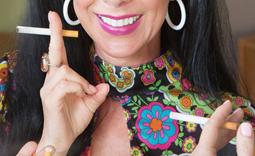smoke: (170, 112, 239, 131), (15, 25, 79, 38)
